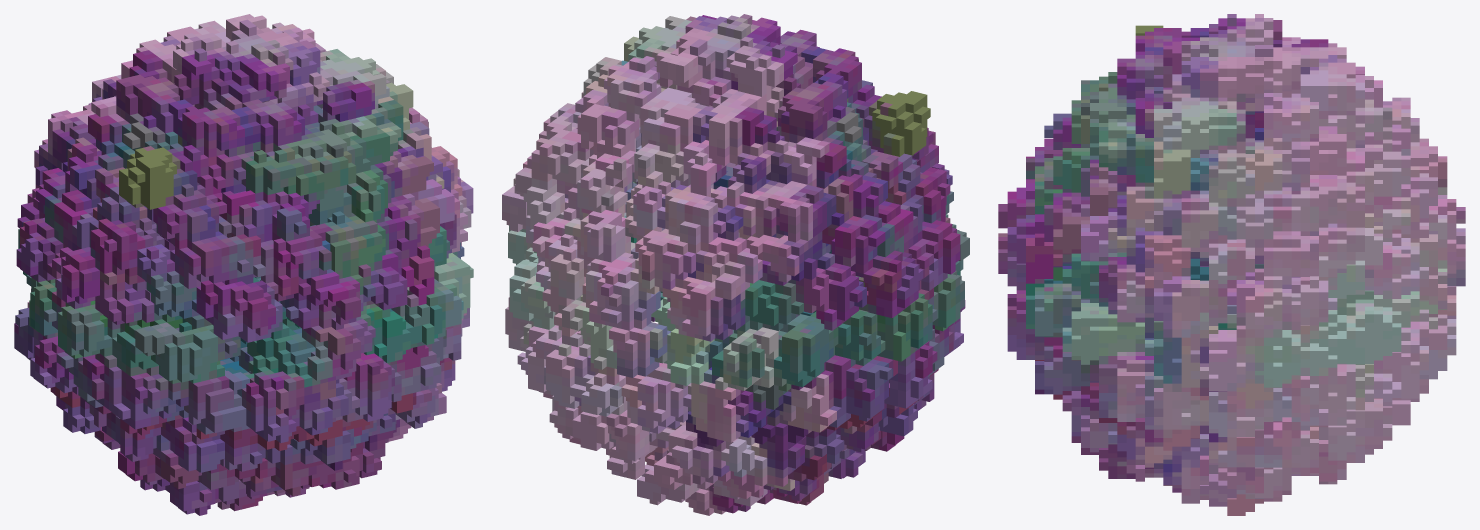
File: planet_0304124746.glb
3 renders of one model, left to right at view 1: azimuth 30°, elevation 25°; view 2: azimuth 150°, elevation 25°; view 3: azimuth 270°, elevation 25°, orthographic.
Bounding box in the file's own units: 1.67 × 1.8 × 1.67.
